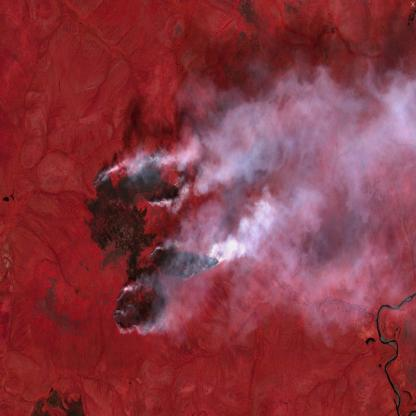fire: (87, 140, 223, 338)
